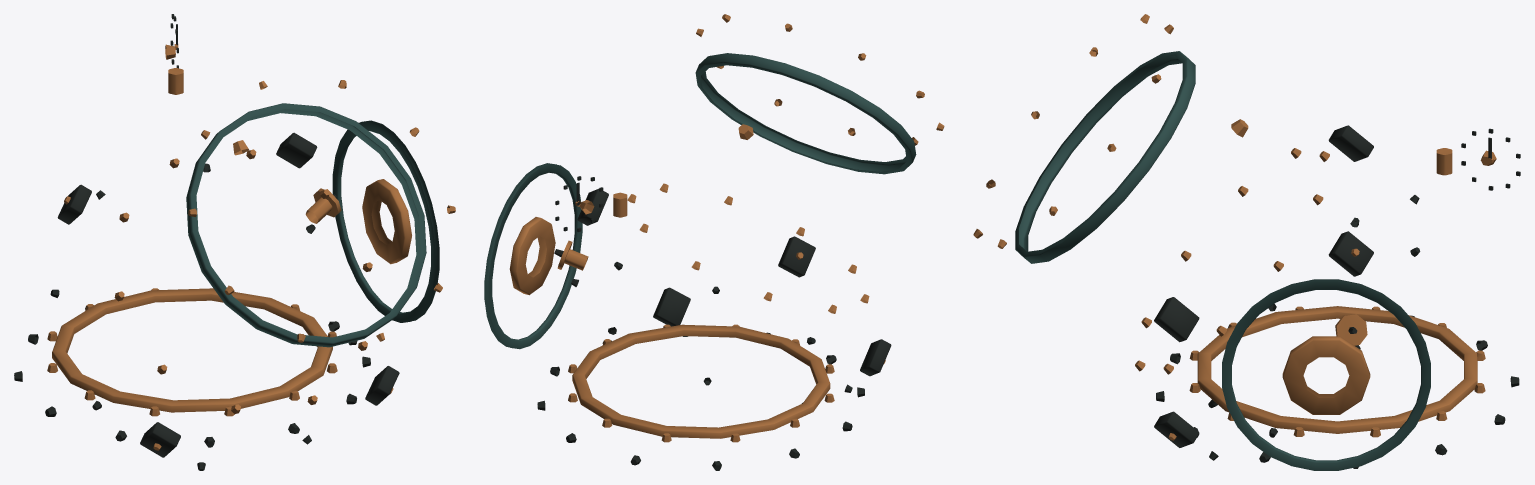
The model's file is cannon_launcher_detail1.glb.
3 views of the same model, side by side, from view 1: azimuth 30°, elevation 25°; view 2: azimuth 150°, elevation 25°; view 3: azimuth 270°, elevation 25° (orthographic). The views are drawn at different scales.
Parts seen in each view (by area): view 1: Detail1; view 2: Detail1; view 3: Detail1.
Boxes of the visible parts, x1,y1,x2,y2 form: Detail1: [14, 14, 455, 470]; Detail1: [484, 14, 944, 470]; Detail1: [973, 14, 1520, 470].
Size of the model in its own units: 7.27 by 7.9 by 9.72.
